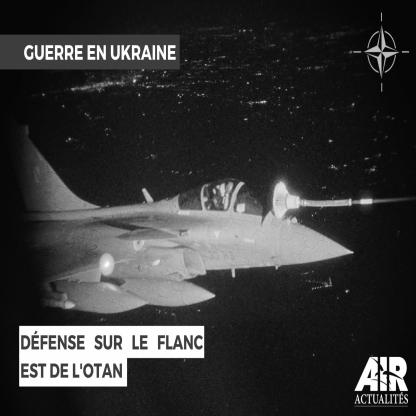Rafale: (11, 116, 355, 315)
